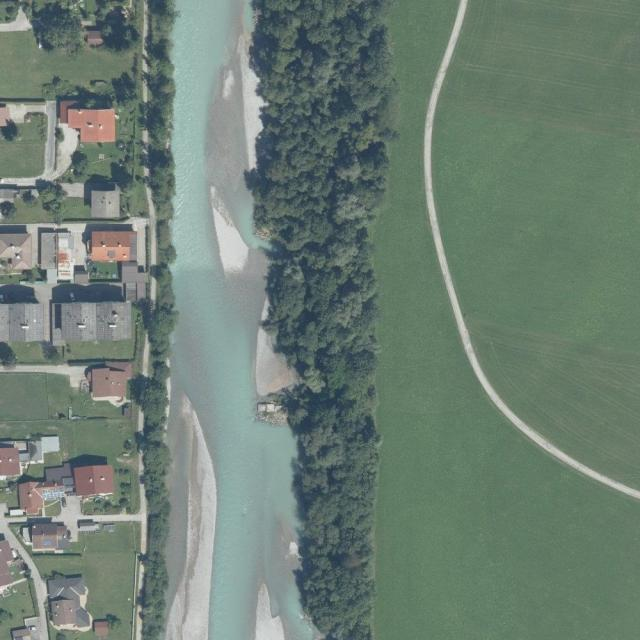building: (19, 171, 153, 290), (45, 573, 94, 636), (60, 302, 131, 341), (59, 99, 115, 143), (17, 479, 66, 516), (85, 361, 132, 398), (21, 517, 70, 552), (0, 304, 44, 341), (68, 109, 115, 142), (74, 464, 115, 497), (0, 232, 33, 271), (27, 434, 61, 464), (0, 534, 16, 593), (43, 461, 75, 489), (0, 446, 22, 480), (92, 620, 110, 636)
greenland: (35, 522, 135, 639), (0, 31, 134, 97), (0, 1, 143, 56), (104, 55, 144, 177), (61, 403, 136, 461), (0, 372, 71, 421), (81, 139, 144, 189), (0, 112, 46, 177), (0, 183, 71, 224), (0, 580, 36, 639), (9, 341, 64, 364), (76, 340, 130, 360)
metalled_road: (78, 466, 169, 551), (0, 355, 86, 389), (50, 492, 87, 542), (81, 514, 145, 523)
